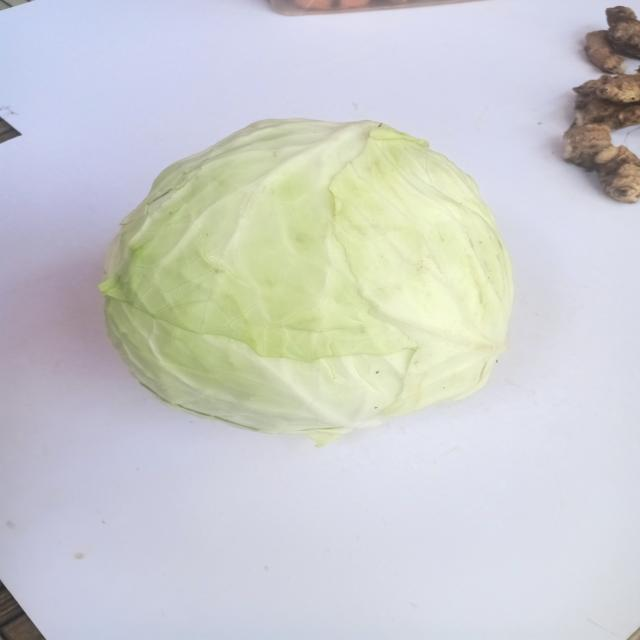Cabbage: (99, 118, 512, 442)
